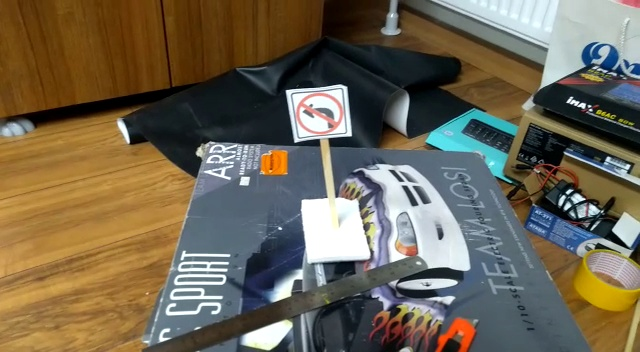sola_donulmez: (296, 90, 345, 140)
